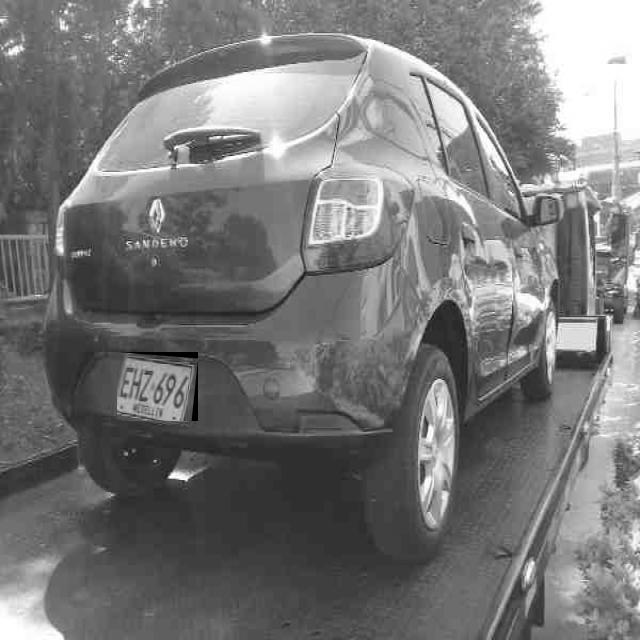plate: (117, 353, 197, 421)
